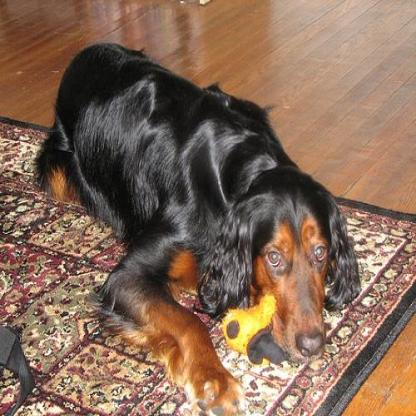Gordon_setter: (30, 39, 364, 414)
